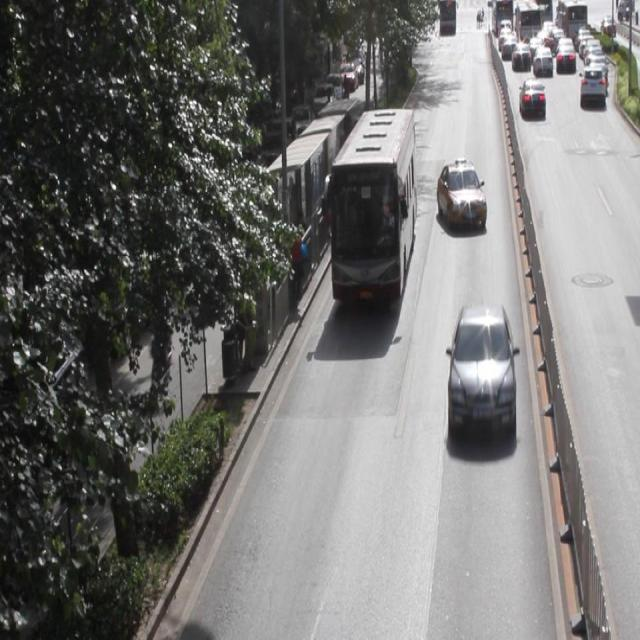car: (448, 300, 513, 437), (436, 159, 484, 233)
van: (330, 108, 416, 300)
